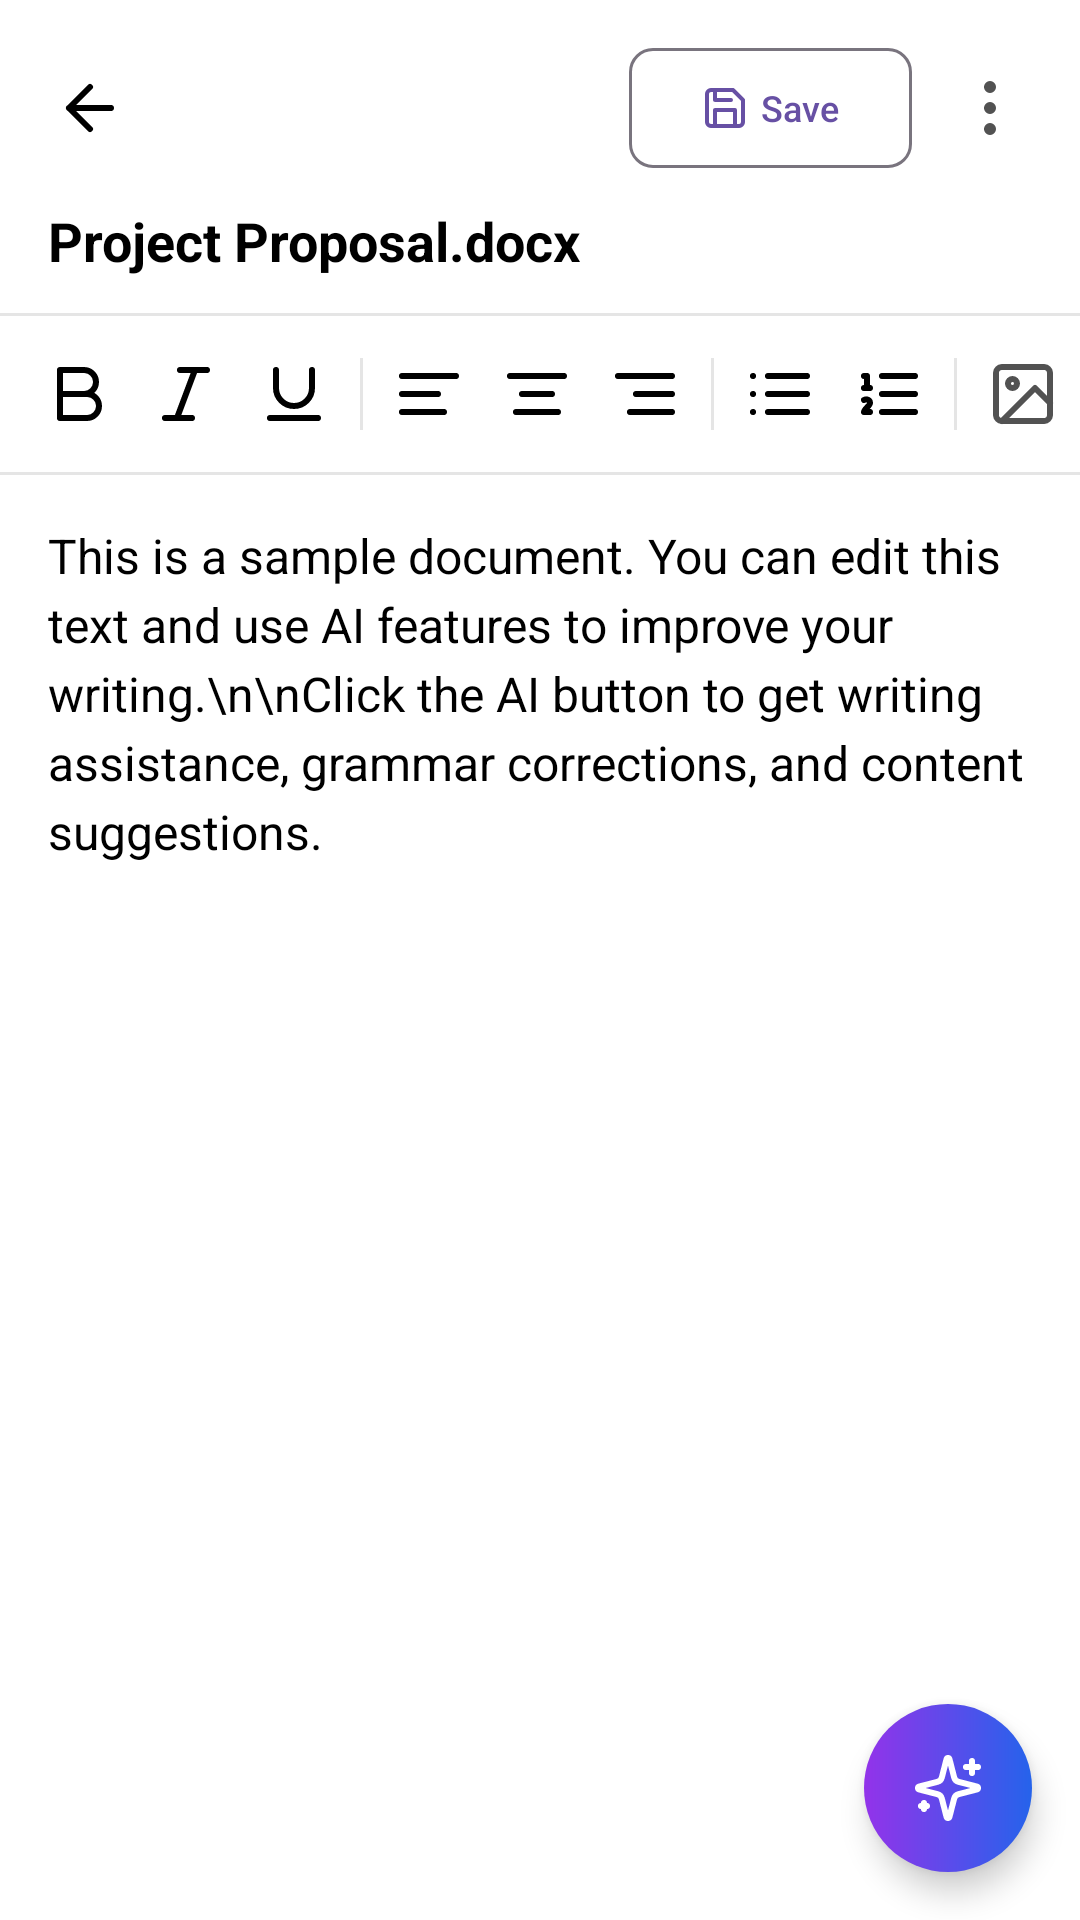

Icons on this 1080w x 1920h Android screen, each with the point to tap as (x=x, y=y):
align center: (x=537, y=394)
align left: (x=429, y=394)
align right: (x=645, y=394)
arrow left: (x=90, y=108)
italic: (x=186, y=394)
list: (x=780, y=394)
list ordered: (x=889, y=394)
more vertical: (x=990, y=108)
sparkles: (x=948, y=1788)
underline: (x=294, y=394)
